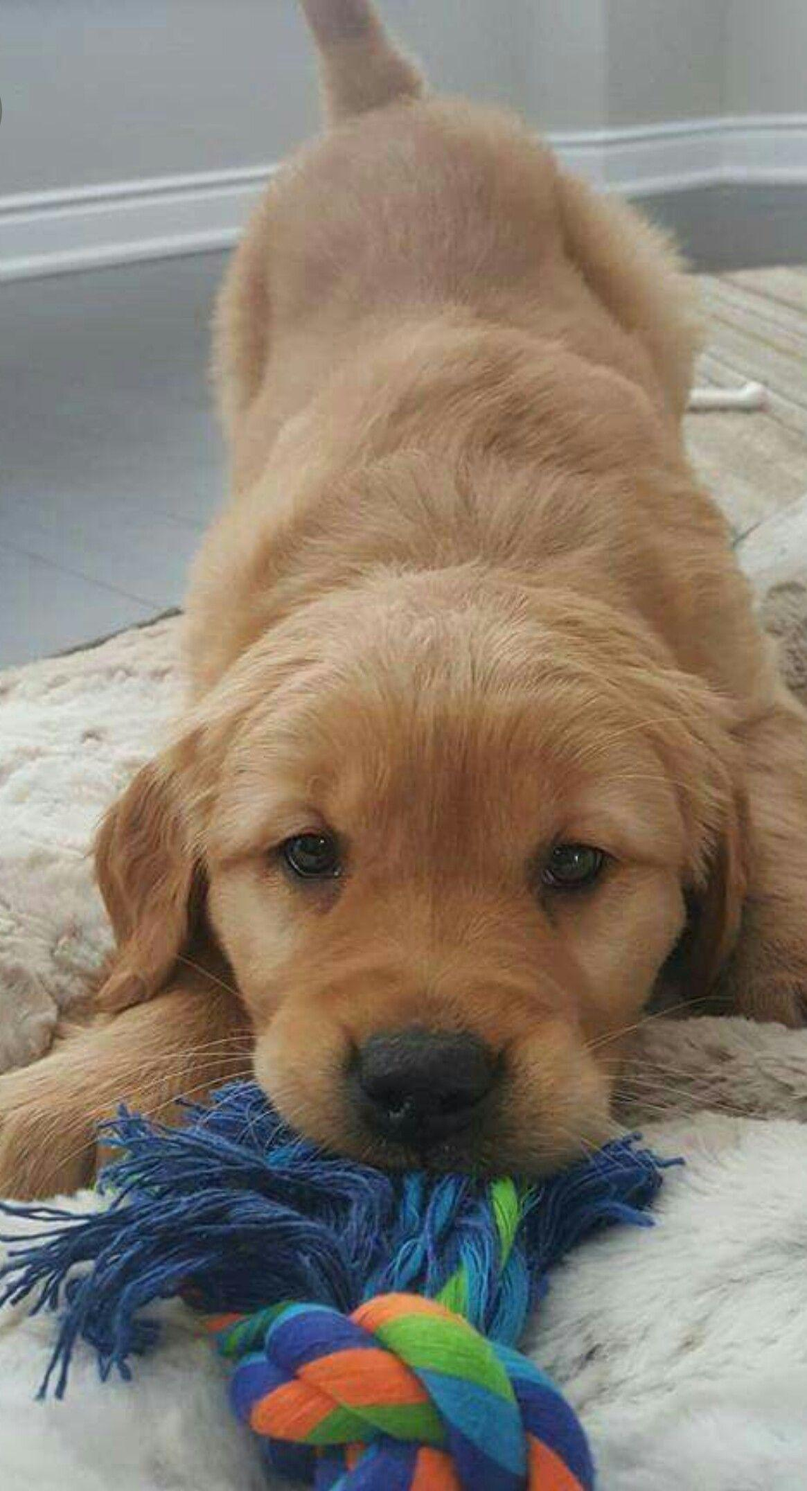puppy-dog: (0, 1, 807, 1202)
